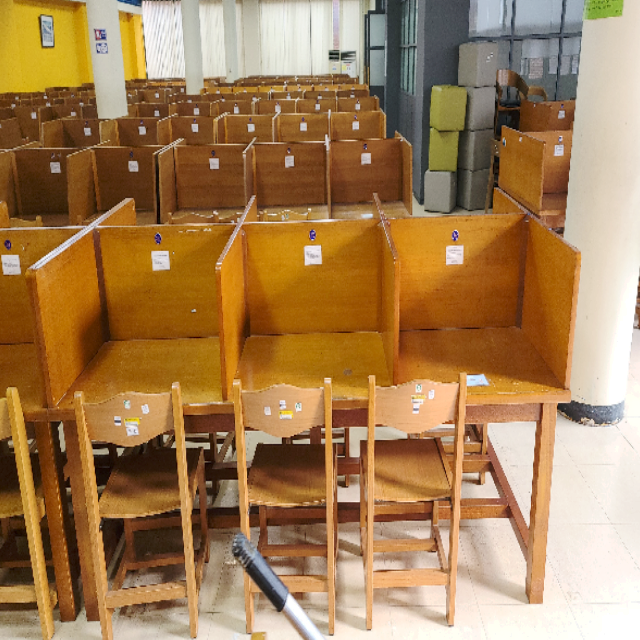empty: (42, 220, 222, 499), (408, 210, 578, 476), (230, 221, 393, 484)
